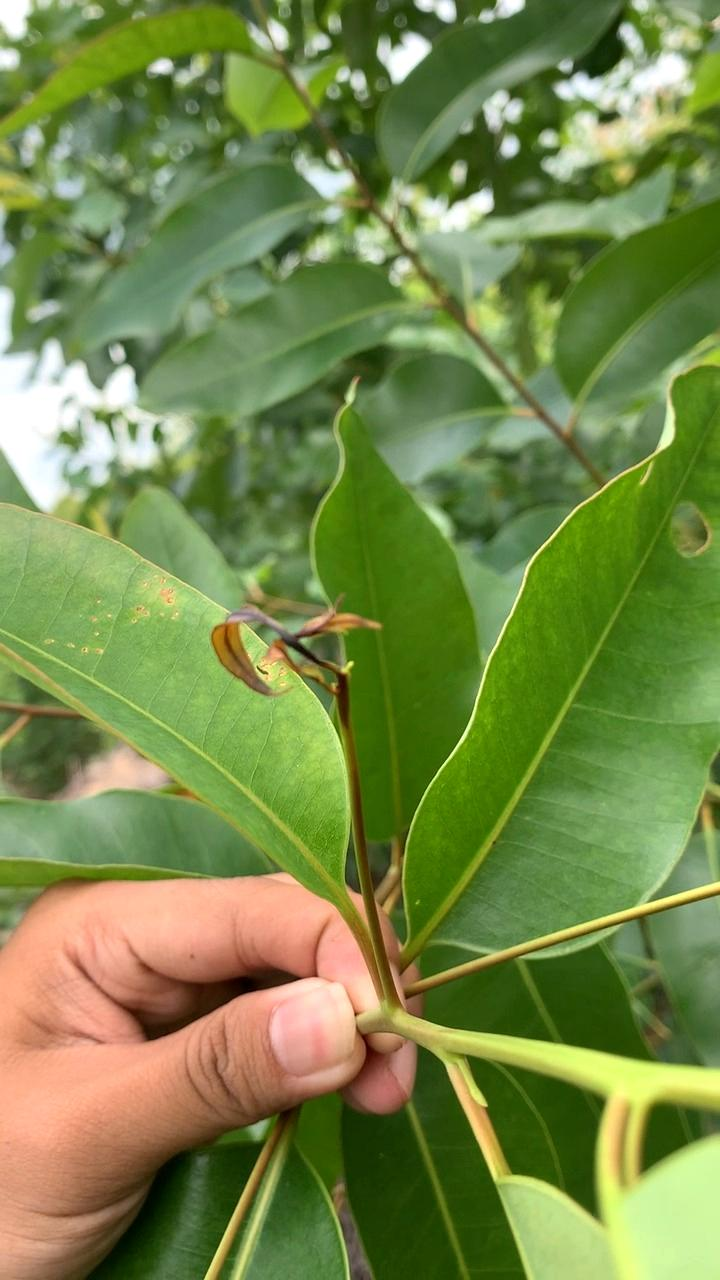Helopeltis-Withered Sprout: (207, 583, 395, 723)
